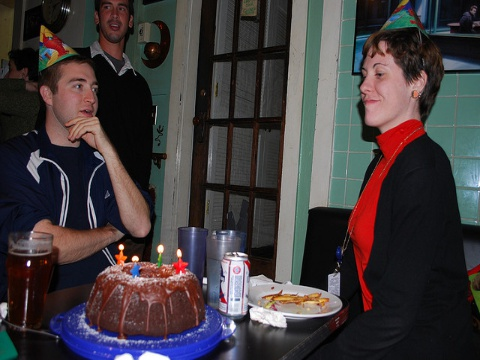hand: (63, 115, 107, 147)
